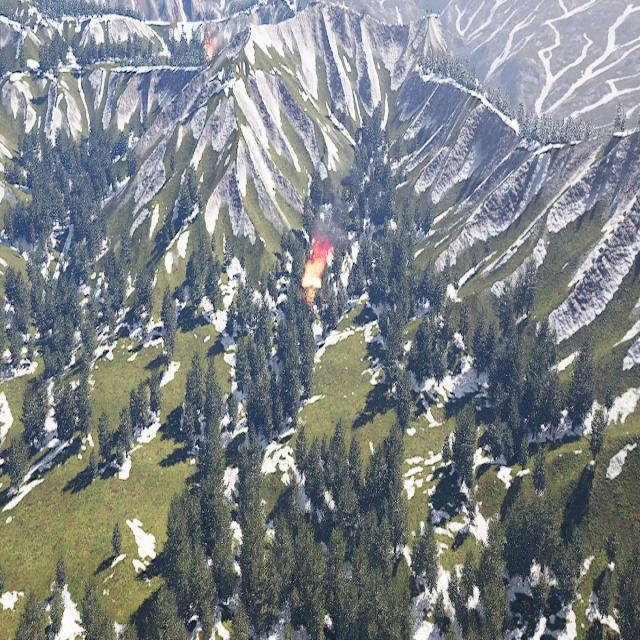fire: (302, 244, 329, 298), (206, 41, 215, 60)
smoke: (312, 207, 349, 250), (209, 22, 225, 48)
